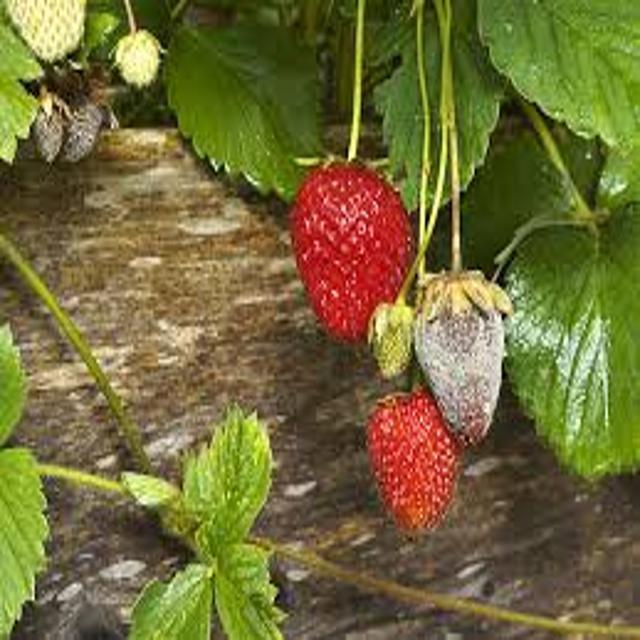Botrytis: (413, 279, 505, 441)
Saludable: (286, 169, 414, 341), (366, 403, 462, 542), (368, 318, 416, 376)
